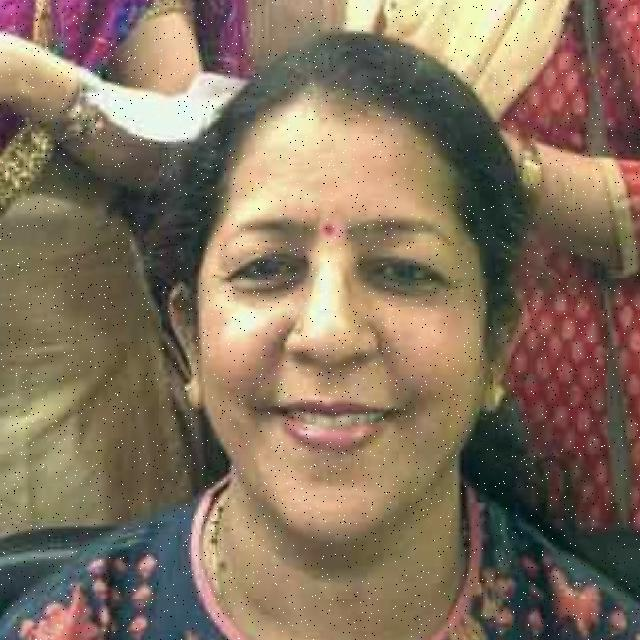puffy_eyes: (227, 269, 308, 295), (371, 268, 447, 295)
